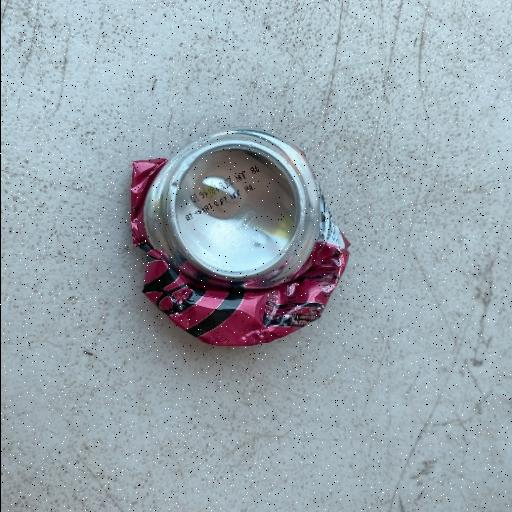Metal: (128, 126, 352, 349)
